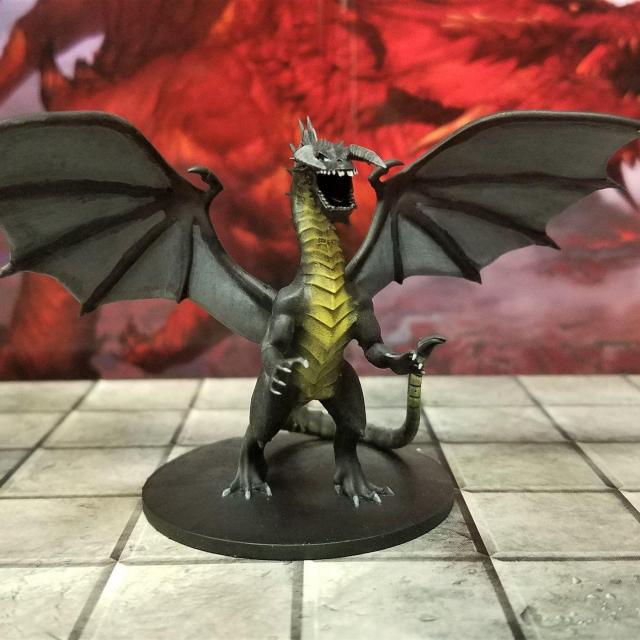Without deffect: (1, 68, 640, 569)
